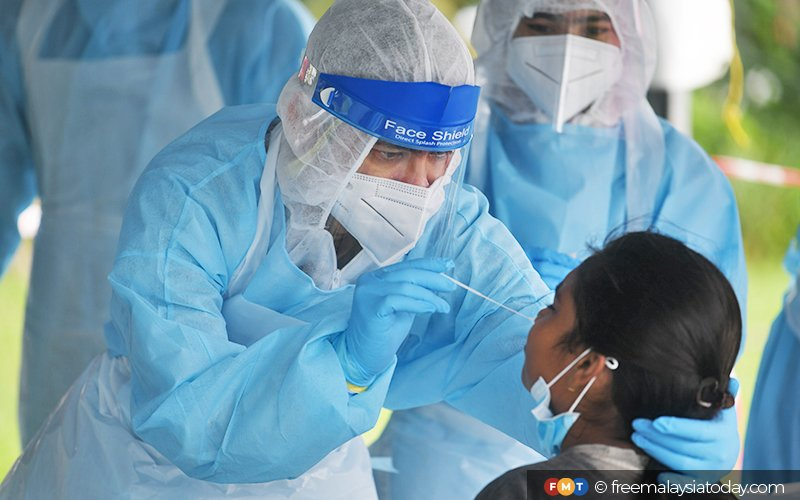Coverall: (2, 1, 554, 500), (1, 1, 337, 480), (373, 97, 757, 500)
Face_Shield: (296, 60, 481, 291)
Gloves: (322, 252, 461, 401)
mask_weared_incorrect: (520, 266, 604, 459)
with_mask: (325, 135, 454, 266), (510, 7, 623, 115)
